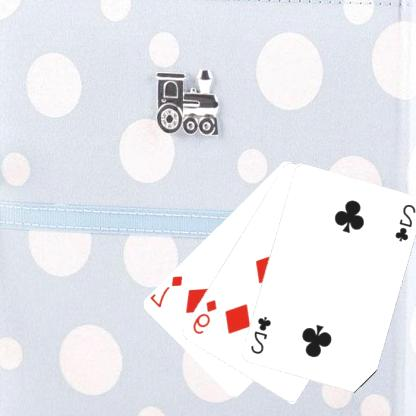2C: (249, 314, 274, 356), (393, 202, 416, 243)
6D: (191, 297, 220, 336)
7D: (150, 273, 185, 309)
